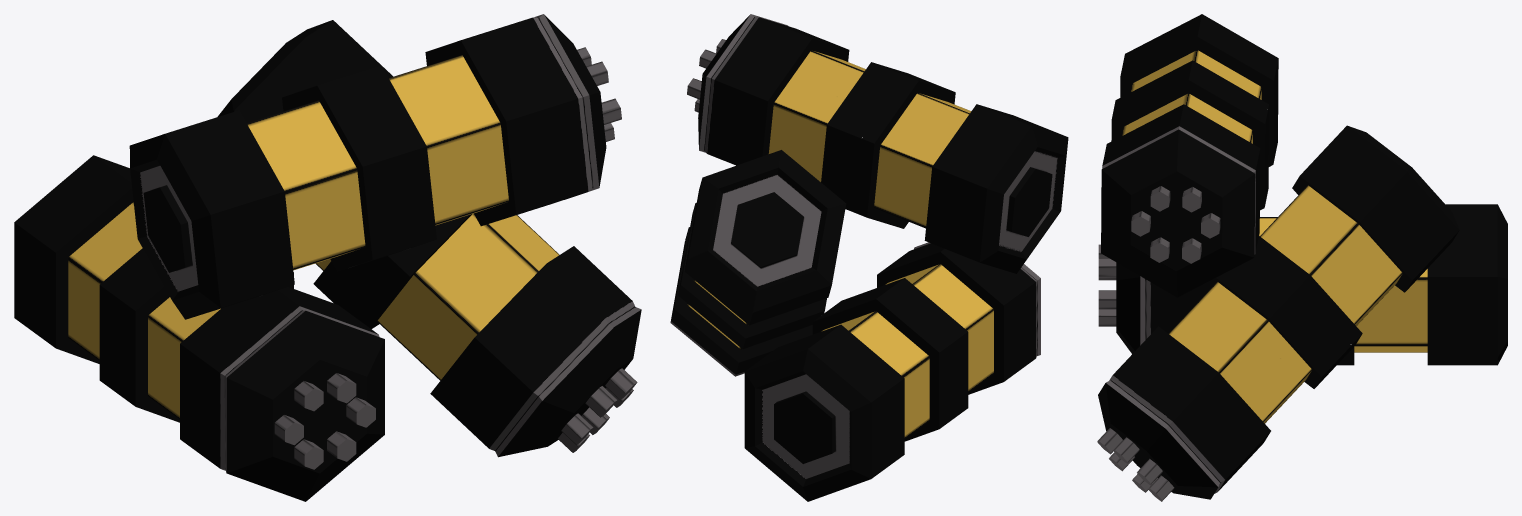
Rendered from Power Cell.fbx.
The picture shows the model from 3 angles, left to right: view 1: azimuth 30°, elevation 25°; view 2: azimuth 150°, elevation 25°; view 3: azimuth 270°, elevation 25°; orthographic projection. The views are drawn at different scales.
Visible parts, largest first — view 1: Power Cell; view 2: Power Cell; view 3: Power Cell.
Part boxes in pixels (x1,y1,x2,y2): Power Cell: (14,14,641,501); Power Cell: (670,14,1068,501); Power Cell: (1097,14,1507,501).
Size of the model in its own units: 86.47 by 78.43 by 78.92.
